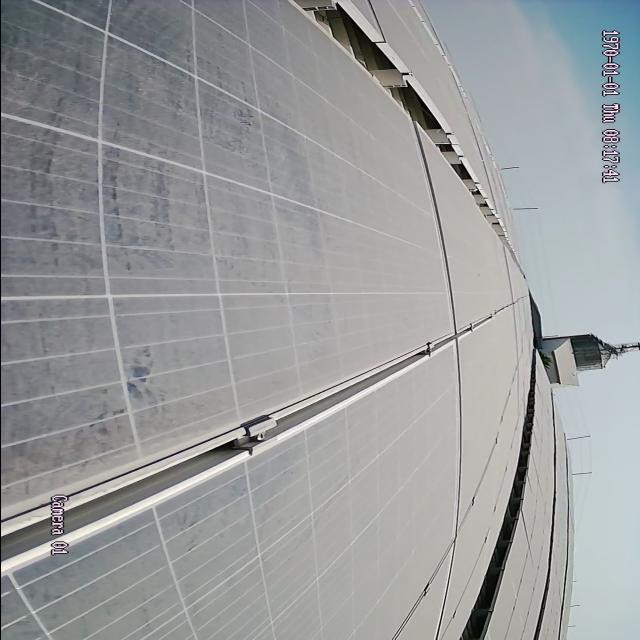interior panel: (14, 312, 488, 572), (421, 405, 469, 617), (416, 153, 468, 317), (448, 359, 475, 399)
outher panel: (282, 8, 495, 221), (456, 394, 537, 631)
